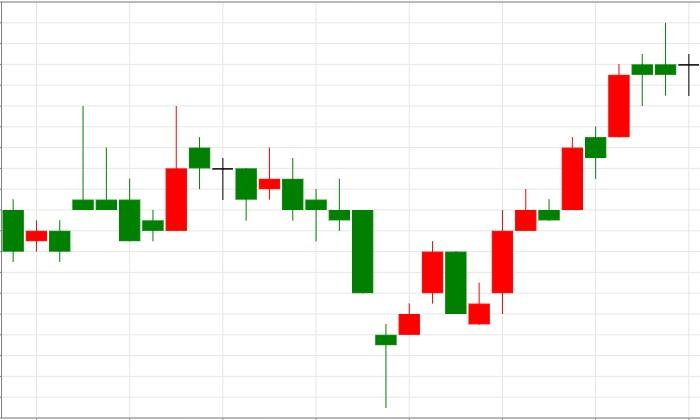three_white_soldiers_rise: (421, 188, 536, 324)
